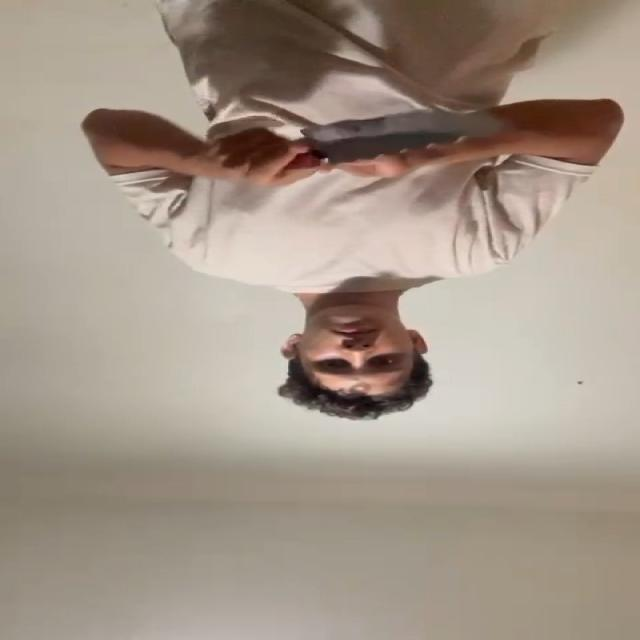knife: (310, 102, 522, 163)
